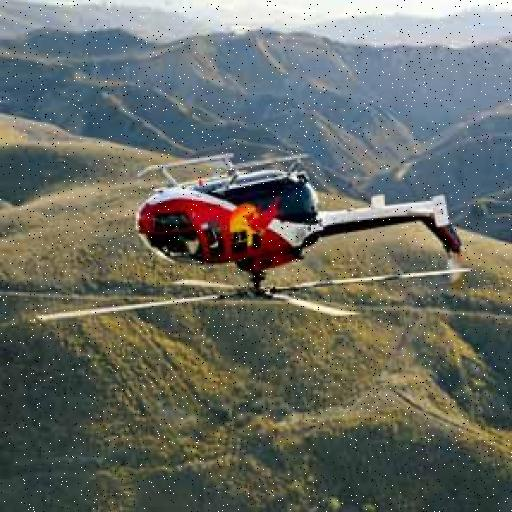helicopter: (37, 156, 474, 321)
